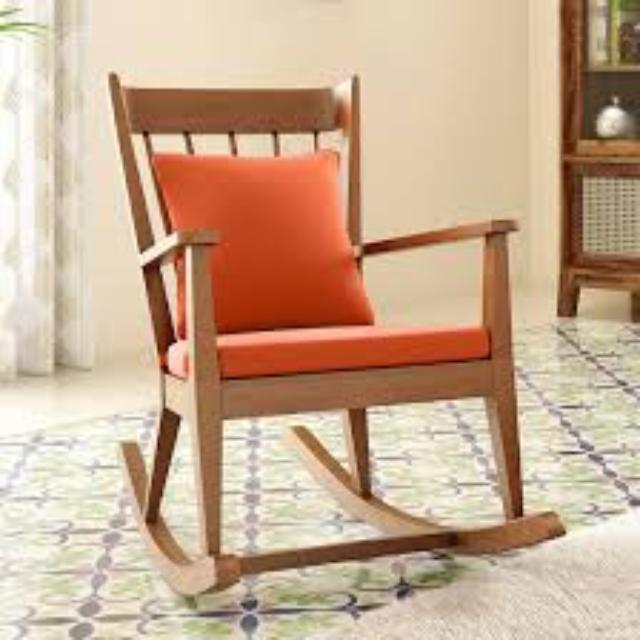obstacle: (44, 28, 586, 594)
